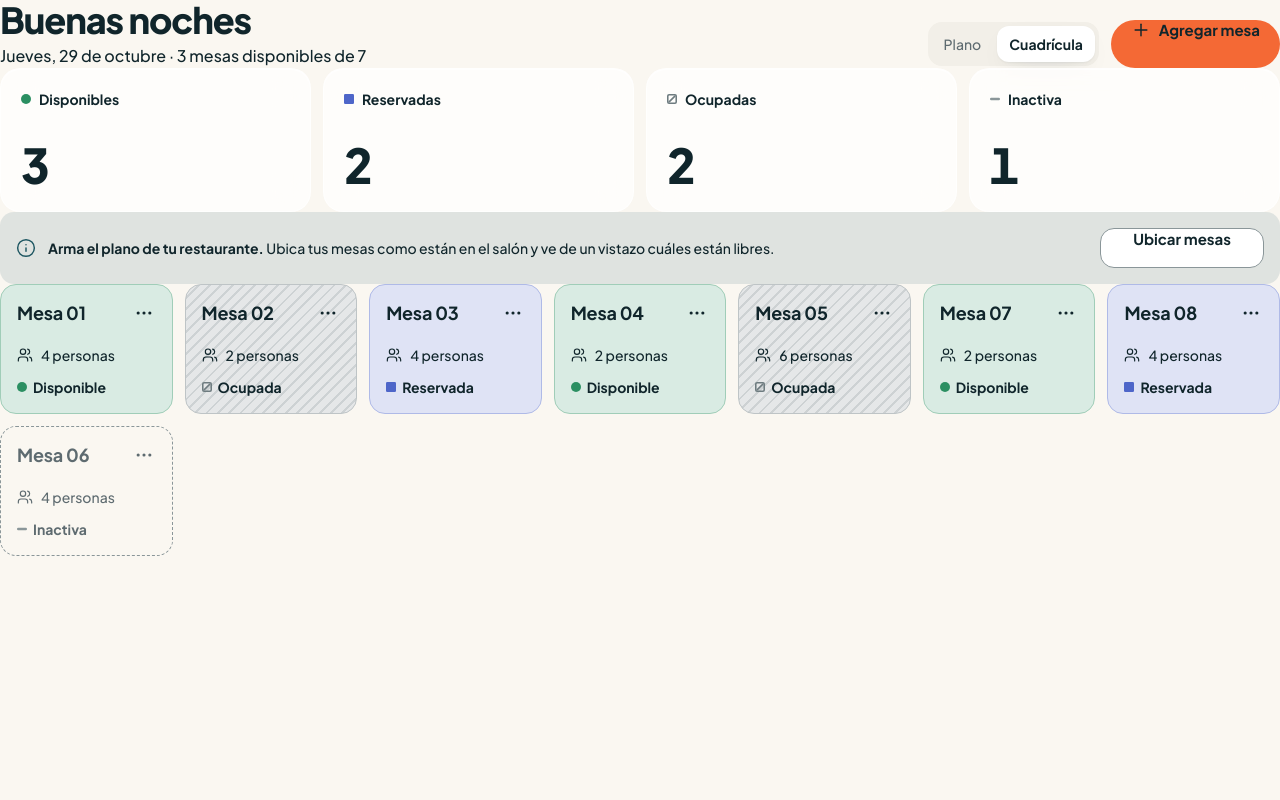
Test: TablesPage · crear mesa › repeated identifier is caught in the front (also against inactive tables)
Expected: the list named "Mesas" is shown, [0,284,1279,556]
Click the button "Agregar mesa": (1195, 44) [1111,20,1279,68]
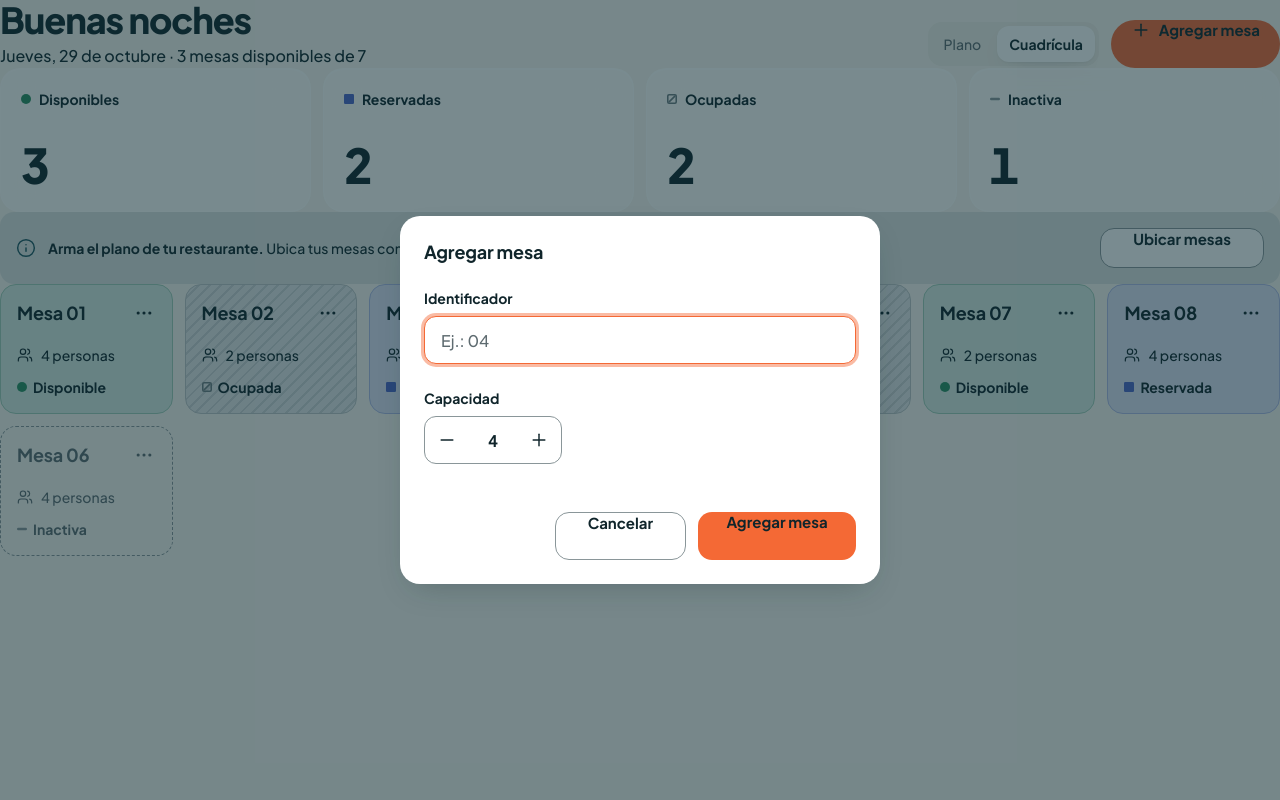
In the field labelled "Identificador": (640, 340) [424,316,856,364], type "6"
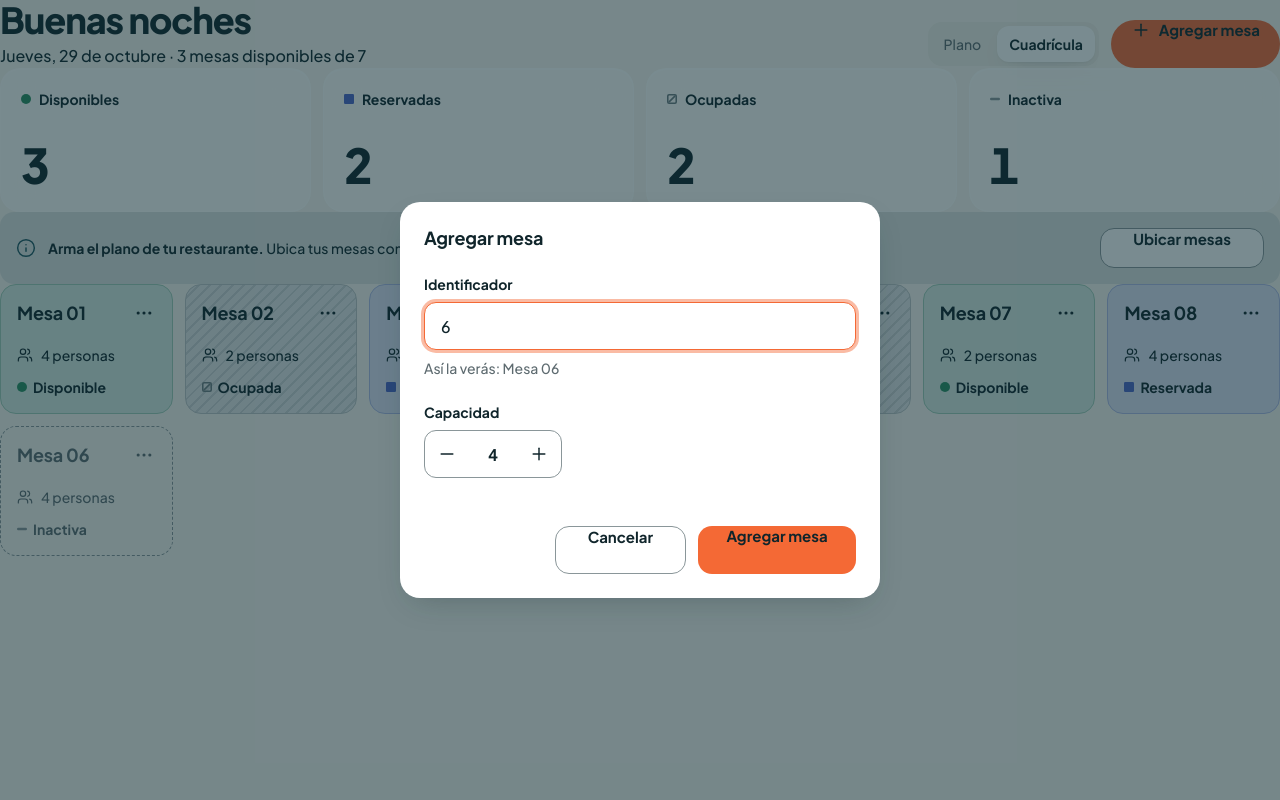
Click the button "Agregar mesa": (777, 550) [698,526,856,574]
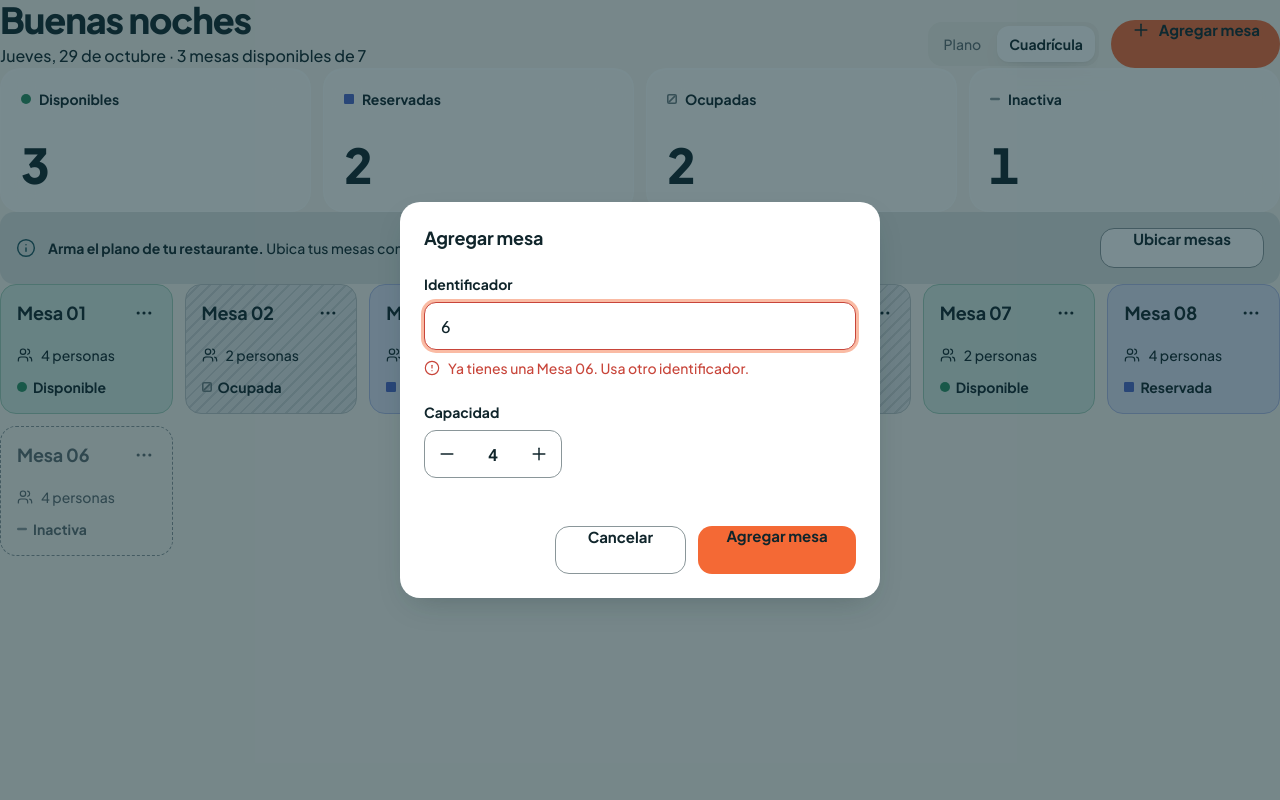
Expected: the text "Ya tienes una Mesa 06. Usa otro identificador." is shown, [424,359,749,377]
